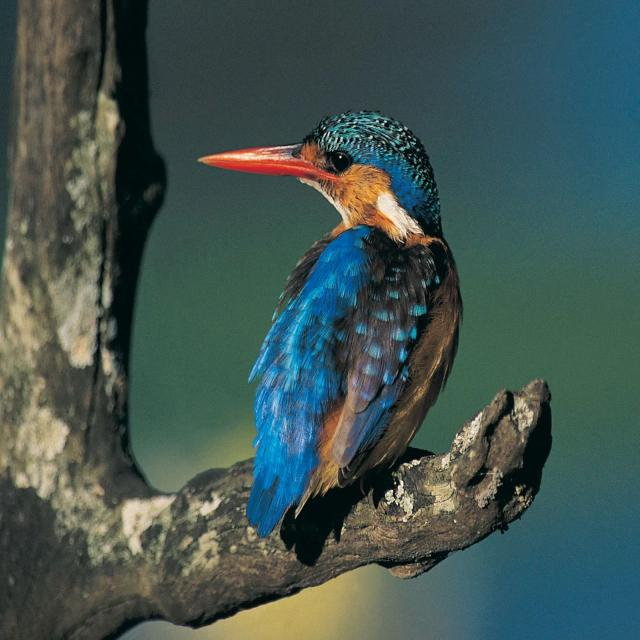kingfisher: (175, 82, 520, 554)
